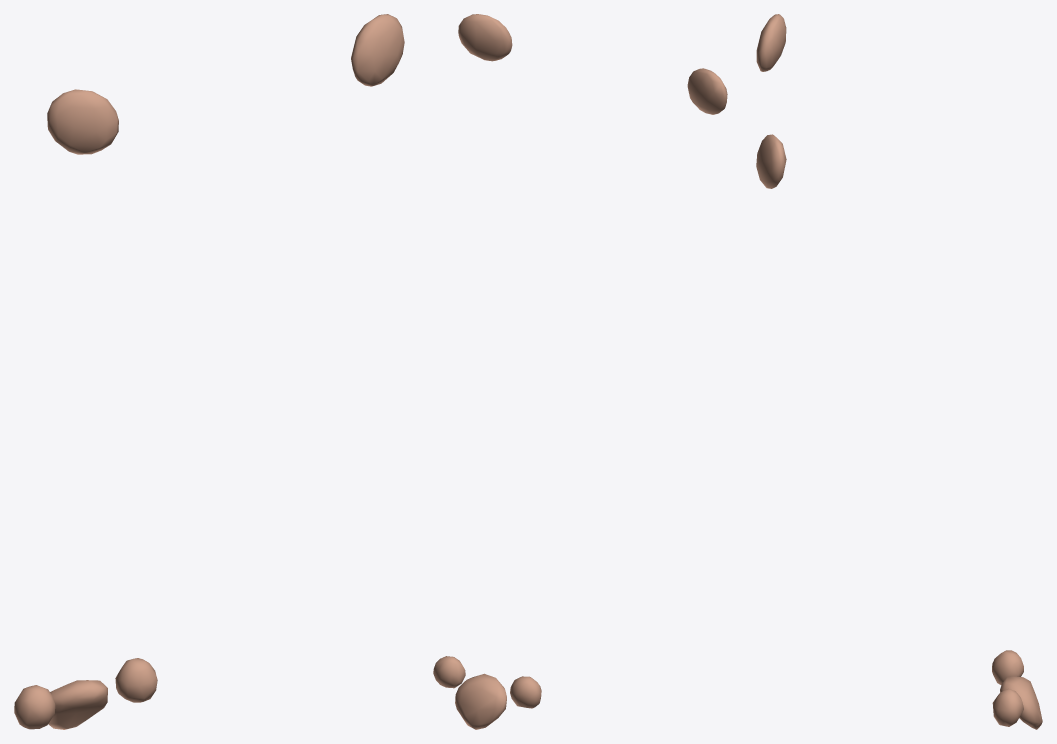
The model's file is pediatric_child_10y_female.reproductive.LOD2.glb.
3 views of the same model, side by side, from view 1: azimuth 30°, elevation 25°; view 2: azimuth 150°, elevation 25°; view 3: azimuth 270°, elevation 25° (orthographic). The views are drawn at different scales.
Parts seen in each view (by area): view 1: PEDIATRIC.CHILD_10Y.FEMALE.REPRODUCTIVE.BREAST_ADIPOSE_TISSU (×2), PEDIATRIC.CHILD_10Y.FEMALE.REPRODUCTIVE.UTERUS, PEDIATRIC.CHILD_10Y.FEMALE.REPRODUCTIVE.OVARY.L, PEDIATRIC.CHILD_10Y.FEMALE.REPRODUCTIVE.OVARY.R; view 2: PEDIATRIC.CHILD_10Y.FEMALE.REPRODUCTIVE.BREAST_ADIPOSE_TISSU (×2), PEDIATRIC.CHILD_10Y.FEMALE.REPRODUCTIVE.UTERUS, PEDIATRIC.CHILD_10Y.FEMALE.REPRODUCTIVE.OVARY.R, PEDIATRIC.CHILD_10Y.FEMALE.REPRODUCTIVE.OVARY.L; view 3: PEDIATRIC.CHILD_10Y.FEMALE.REPRODUCTIVE.BREAST_ADIPOSE_TISSU (×2), PEDIATRIC.CHILD_10Y.FEMALE.REPRODUCTIVE.UTERUS, PEDIATRIC.CHILD_10Y.FEMALE.REPRODUCTIVE.OVARY.L, PEDIATRIC.CHILD_10Y.FEMALE.REPRODUCTIVE.OVARY.R.
Part boxes in pixels (x1,y1,x2,y2): PEDIATRIC.CHILD_10Y.FEMALE.REPRODUCTIVE.BREAST_ADIPOSE_TISSU (×2): [47, 14, 404, 154]; PEDIATRIC.CHILD_10Y.FEMALE.REPRODUCTIVE.UTERUS: [48, 680, 107, 729]; PEDIATRIC.CHILD_10Y.FEMALE.REPRODUCTIVE.OVARY.L: [115, 658, 157, 702]; PEDIATRIC.CHILD_10Y.FEMALE.REPRODUCTIVE.OVARY.R: [14, 685, 55, 729]; PEDIATRIC.CHILD_10Y.FEMALE.REPRODUCTIVE.BREAST_ADIPOSE_TISSU (×2): [458, 14, 727, 114]; PEDIATRIC.CHILD_10Y.FEMALE.REPRODUCTIVE.UTERUS: [455, 673, 506, 729]; PEDIATRIC.CHILD_10Y.FEMALE.REPRODUCTIVE.OVARY.R: [510, 676, 541, 708]; PEDIATRIC.CHILD_10Y.FEMALE.REPRODUCTIVE.OVARY.L: [433, 656, 465, 688]; PEDIATRIC.CHILD_10Y.FEMALE.REPRODUCTIVE.BREAST_ADIPOSE_TISSU (×2): [756, 14, 786, 188]; PEDIATRIC.CHILD_10Y.FEMALE.REPRODUCTIVE.UTERUS: [1000, 676, 1042, 729]; PEDIATRIC.CHILD_10Y.FEMALE.REPRODUCTIVE.OVARY.L: [992, 688, 1023, 726]; PEDIATRIC.CHILD_10Y.FEMALE.REPRODUCTIVE.OVARY.R: [992, 650, 1023, 685].
Bounding box in the file's own units: 0.1489 × 0.3178 × 0.1267.
